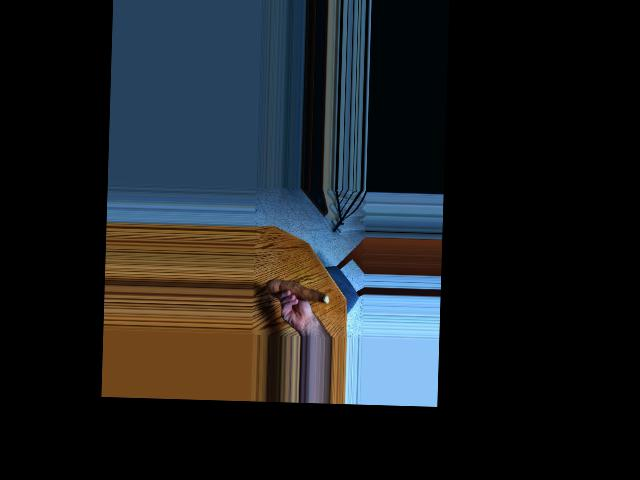sweet_potato: (268, 276, 327, 306)
